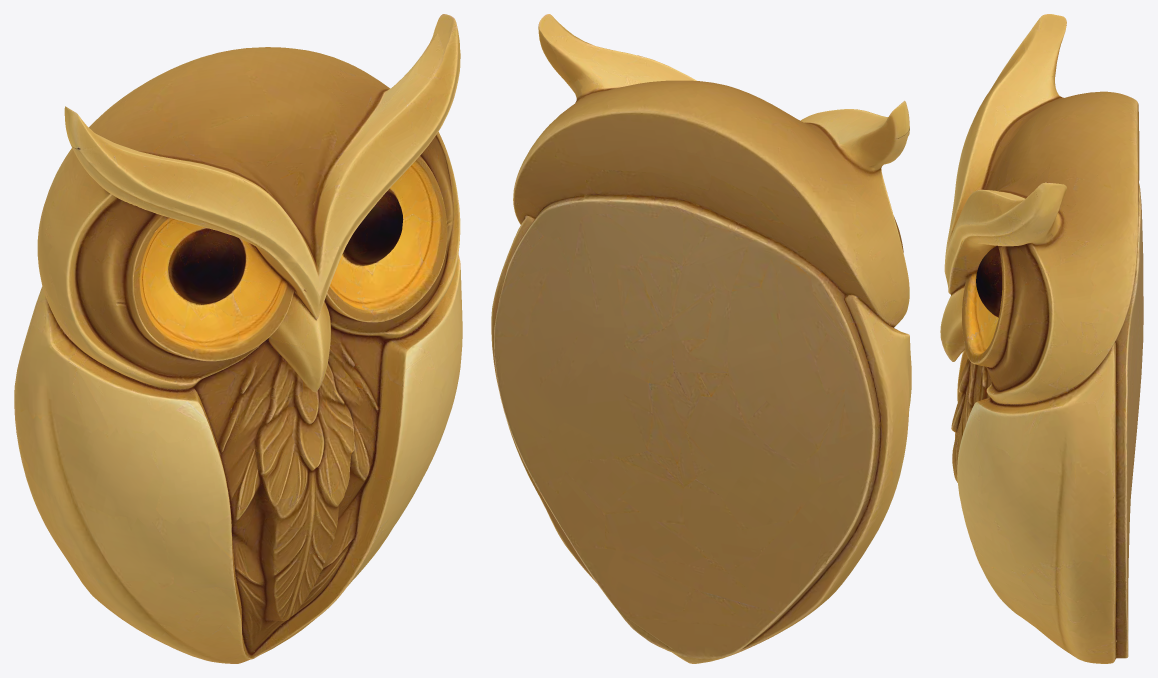
Rendered from owl.glb.
3 views of the same model, side by side, from view 1: azimuth 30°, elevation 25°; view 2: azimuth 150°, elevation 25°; view 3: azimuth 270°, elevation 25° (orthographic). The views are drawn at different scales.
Visible parts, largest first — view 1: Mesh_0; view 2: Mesh_0; view 3: Mesh_0.
Part boxes in pixels (x1,y1,x2,y2): Mesh_0: [14, 14, 462, 663]; Mesh_0: [491, 14, 911, 663]; Mesh_0: [940, 14, 1143, 663].
Size of the model in its own units: 1.37 by 1.9 by 0.6219.
Materials: 1 (1 with a texture image).
